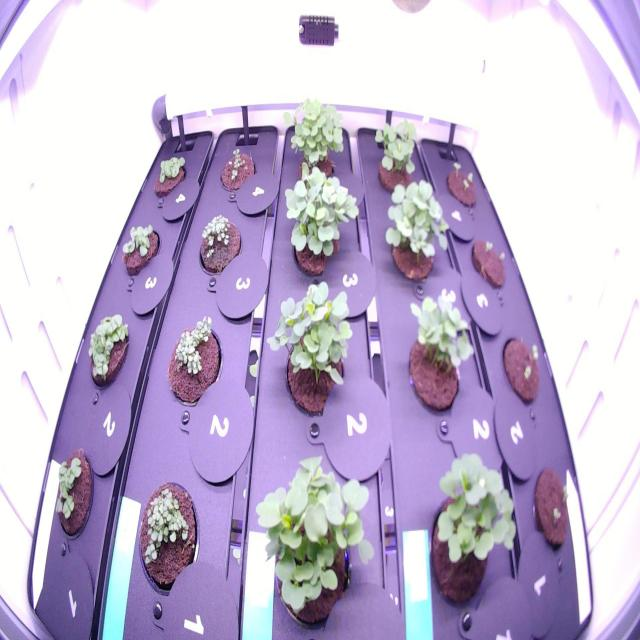germination: (254, 448, 381, 639), (423, 441, 523, 615), (260, 276, 364, 426), (400, 278, 480, 421), (280, 159, 364, 286), (369, 167, 458, 284), (134, 474, 203, 601), (272, 92, 352, 182), (164, 309, 227, 414), (530, 456, 581, 558), (371, 110, 427, 201), (82, 304, 137, 396), (49, 441, 99, 542), (497, 318, 548, 413), (196, 205, 245, 281), (118, 215, 166, 282), (464, 227, 511, 295), (216, 138, 261, 198), (148, 144, 192, 204), (440, 154, 482, 214)
